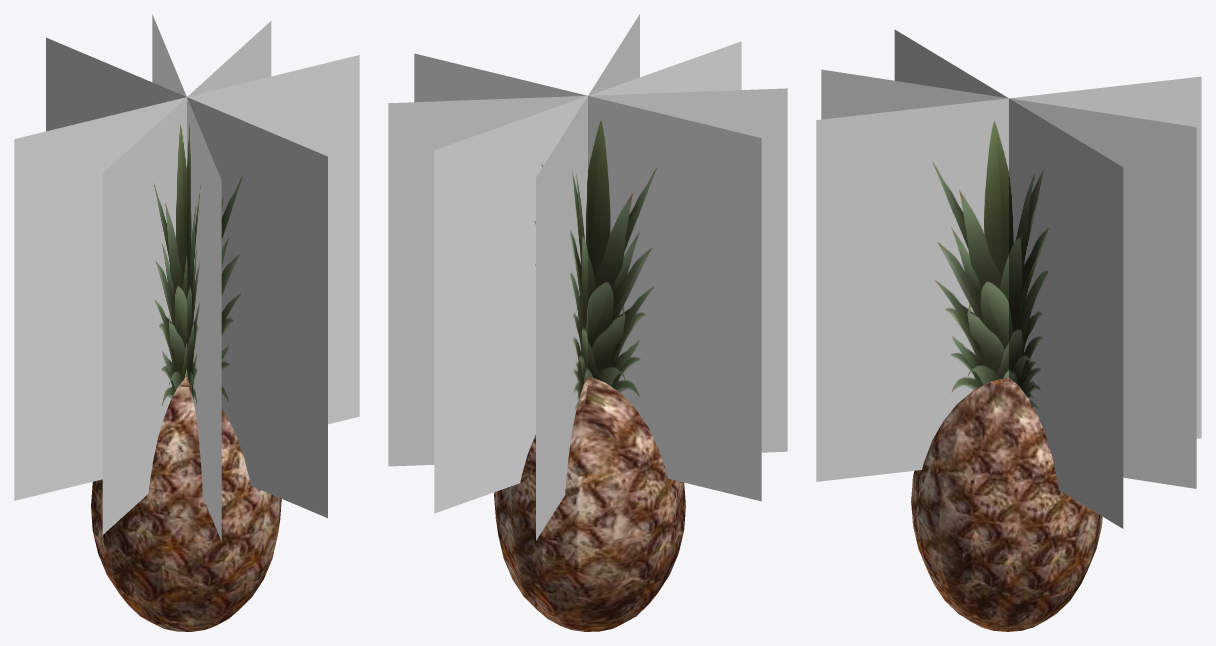
Rendered from pineapple.fbx.
3 views of the same model, side by side, from view 1: azimuth 30°, elevation 25°; view 2: azimuth 150°, elevation 25°; view 3: azimuth 270°, elevation 25° (orthographic).
Parts seen in each view (by area): view 1: Pineapple.002, Pineapple.001, Pineapple.003, Pineapple.004; view 2: Pineapple.002, Pineapple.004, Pineapple.003; view 3: Pineapple.002, Pineapple.001, Pineapple.004, Pineapple.003.
Boxes of the visible parts, left/top/right/bottom form: Pineapple.002: left=14, top=14, right=359, bottom=540; Pineapple.001: left=127, top=479, right=281, bottom=631; Pineapple.003: left=93, top=531, right=161, bottom=627; Pineapple.004: left=91, top=479, right=128, bottom=557; Pineapple.002: left=388, top=14, right=787, bottom=540; Pineapple.004: left=494, top=472, right=685, bottom=564; Pineapple.003: left=498, top=531, right=683, bottom=631; Pineapple.002: left=816, top=29, right=1201, bottom=528; Pineapple.001: left=911, top=464, right=1044, bottom=631; Pineapple.004: left=1041, top=484, right=1102, bottom=562; Pineapple.003: left=1022, top=526, right=1101, bottom=630.
Bounding box in the file's own units: 2.07 × 3.02 × 2.
3 materials, 3 textured.
